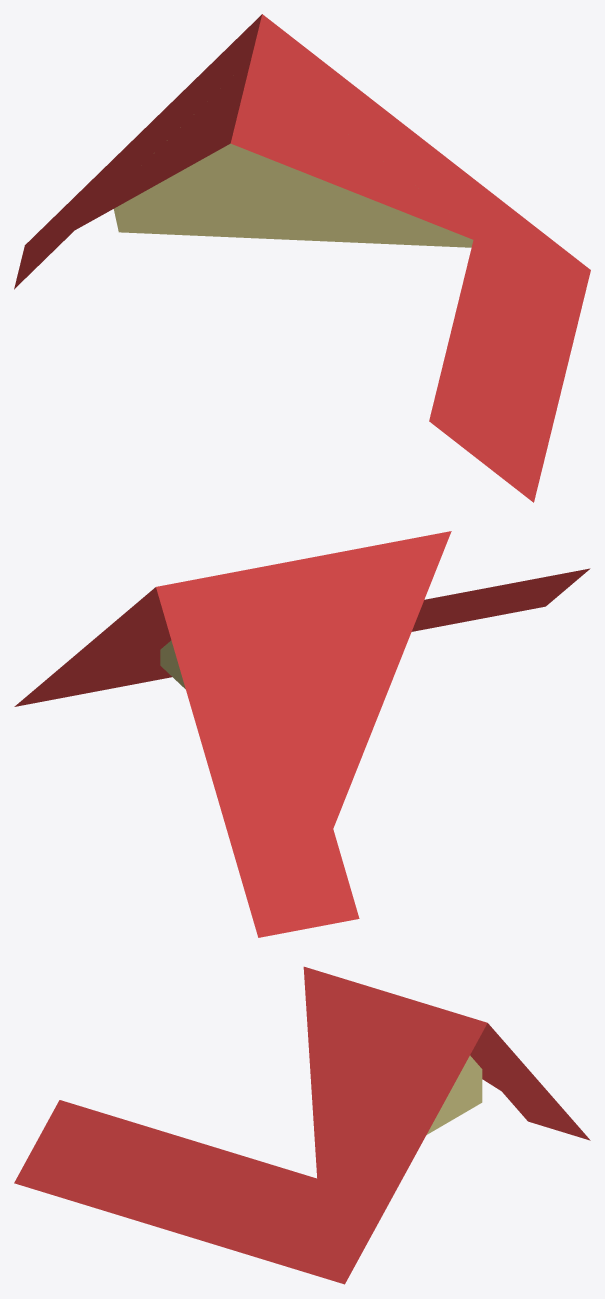
3 renders of one model, top to bottom at view 1: azimuth 30°, elevation 25°; view 2: azimuth 150°, elevation 25°; view 3: azimuth 270°, elevation 25°, orthographic. The views are drawn at different scales.
Size of the model in its own units: 4.96 by 7.42 by 2.53.
